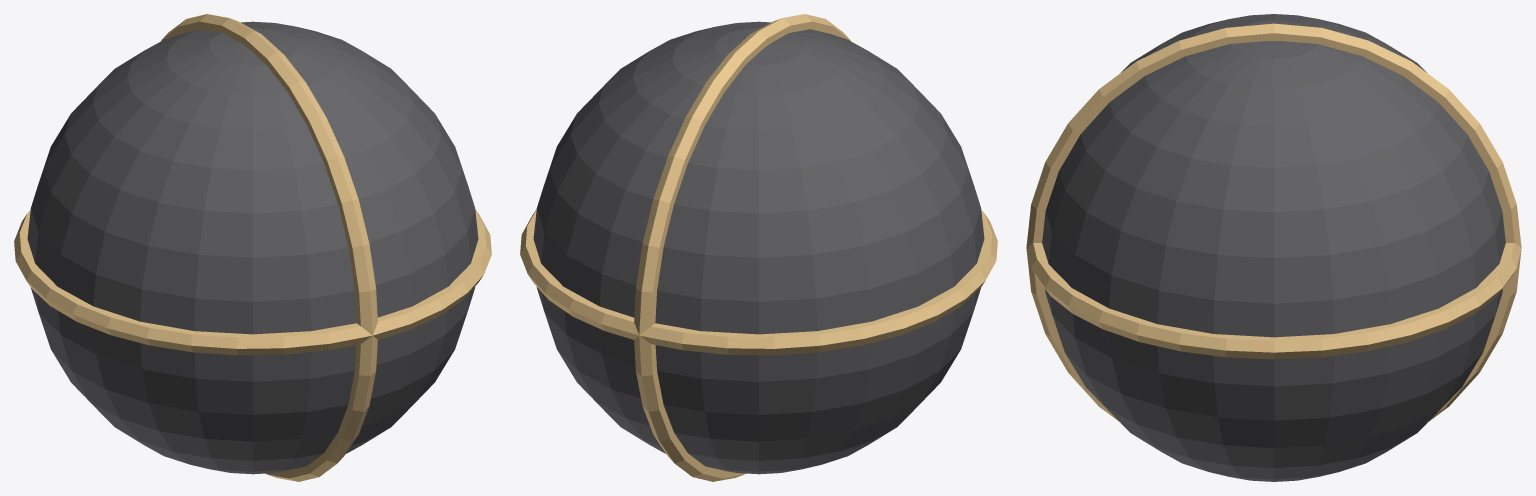
The model's file is IronBall.fbx.
The picture shows the model from 3 angles, left to right: view 1: azimuth 30°, elevation 25°; view 2: azimuth 150°, elevation 25°; view 3: azimuth 270°, elevation 25°; orthographic projection. The views are drawn at different scales.
Visible parts, largest first — view 1: IronBall; view 2: IronBall; view 3: IronBall.
Boxes of the visible parts, x1,y1,x2,y2 form: IronBall: [14, 14, 491, 481]; IronBall: [520, 14, 997, 481]; IronBall: [1026, 14, 1521, 481].
Bounding box in the file's own units: 1.48 × 1.48 × 1.48.
